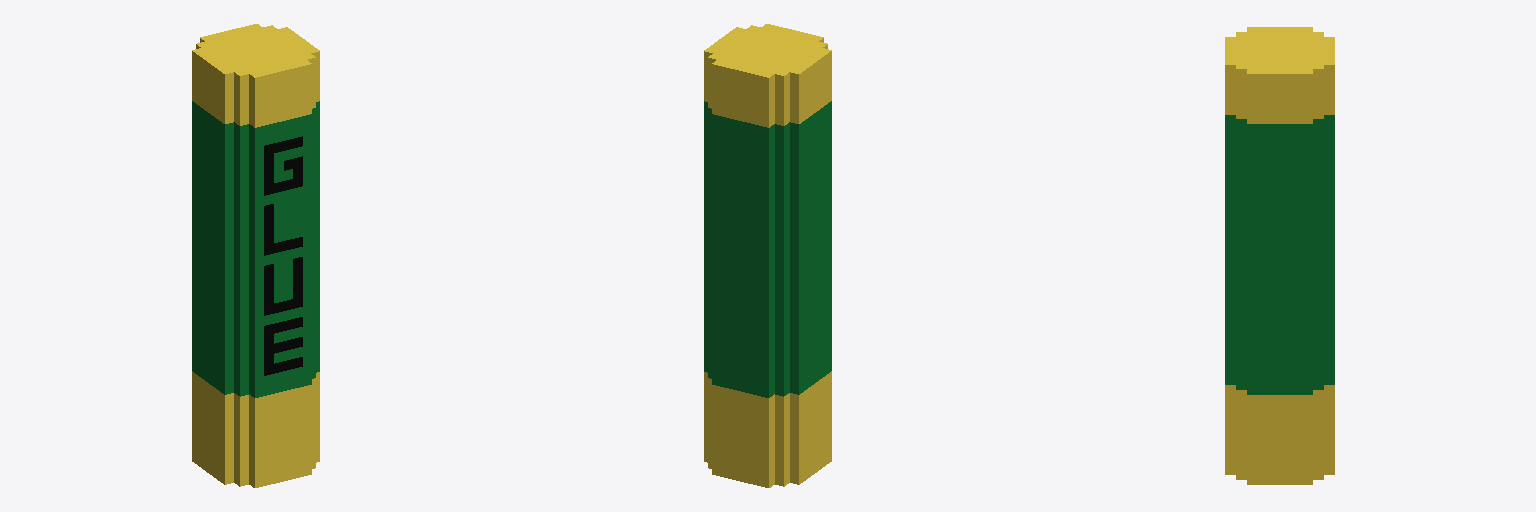
3 views of the same model, side by side, from view 1: azimuth 30°, elevation 25°; view 2: azimuth 150°, elevation 25°; view 3: azimuth 270°, elevation 25° (orthographic).
Visible parts, largest first — view 1: object 1; view 2: object 1; view 3: object 1.
Boxes of the visible parts, x1=… form: object 1: x1=192, y1=24, x2=319, y2=487; object 1: x1=704, y1=24, x2=831, y2=487; object 1: x1=1225, y1=27, x2=1334, y2=484.
Size of the model in its own units: 1 by 4.1 by 1.
1 materials, 1 textured.